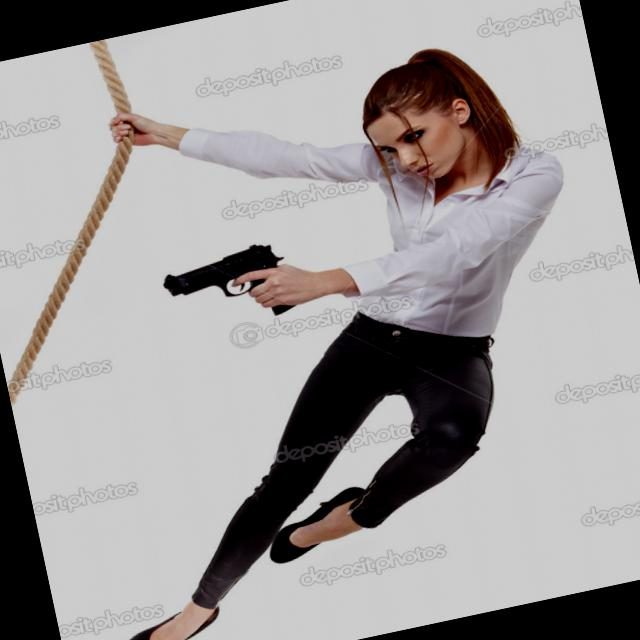handgun: (155, 234, 301, 340)
